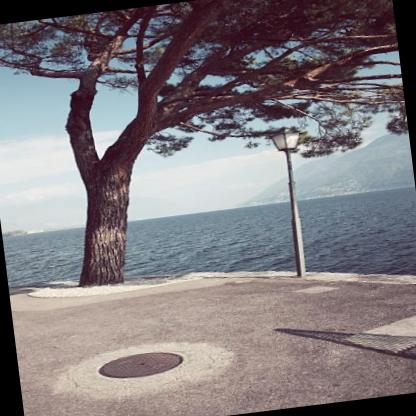manholes: (84, 336, 192, 392)
